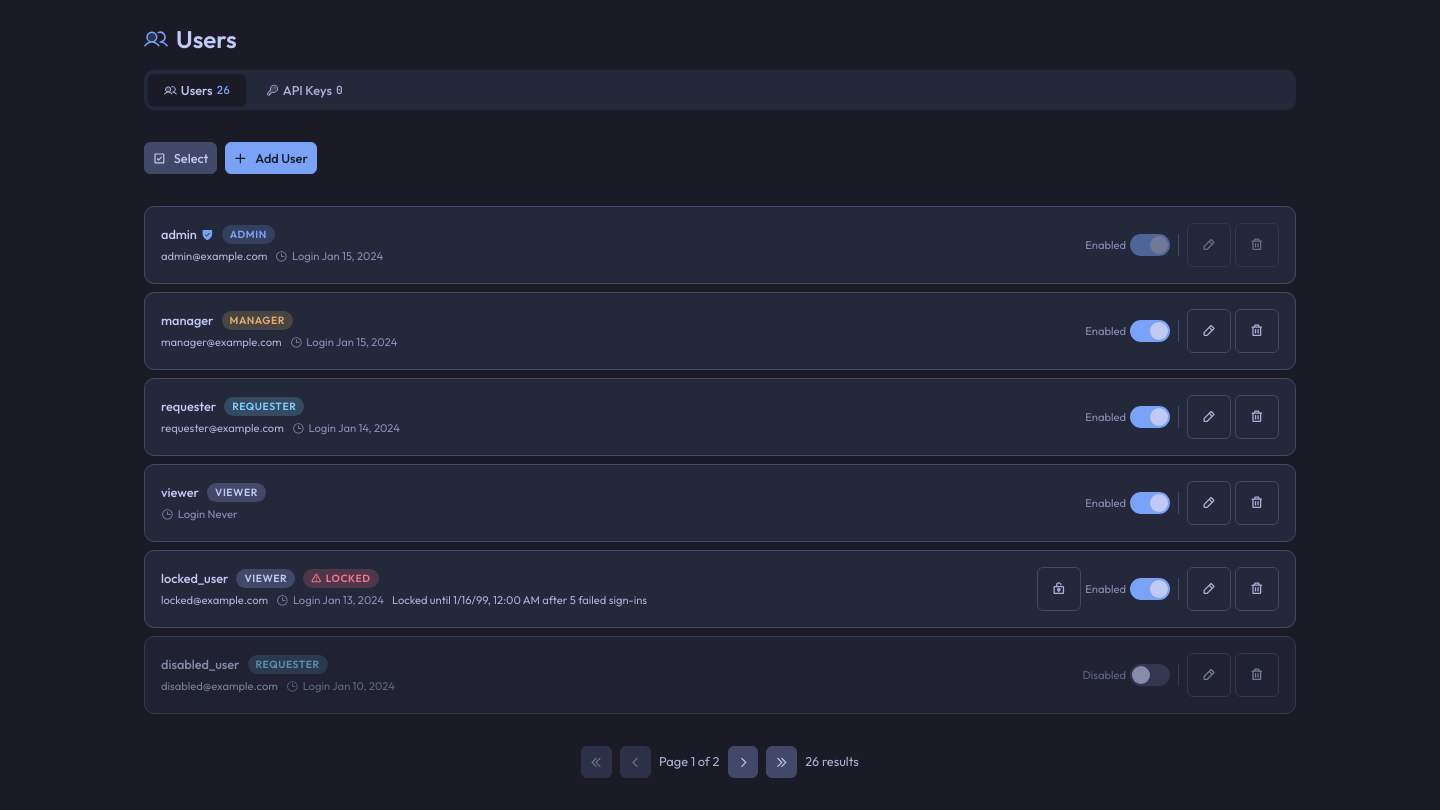
Scenario: UsersPage › uses the total user count and reaches users on later API pages
Check: the text with test id "users-page__tab-count" reads "26", box [216,83,230,97]
Click the button named "Go to next page" at (743, 762), box [728,746,758,778]
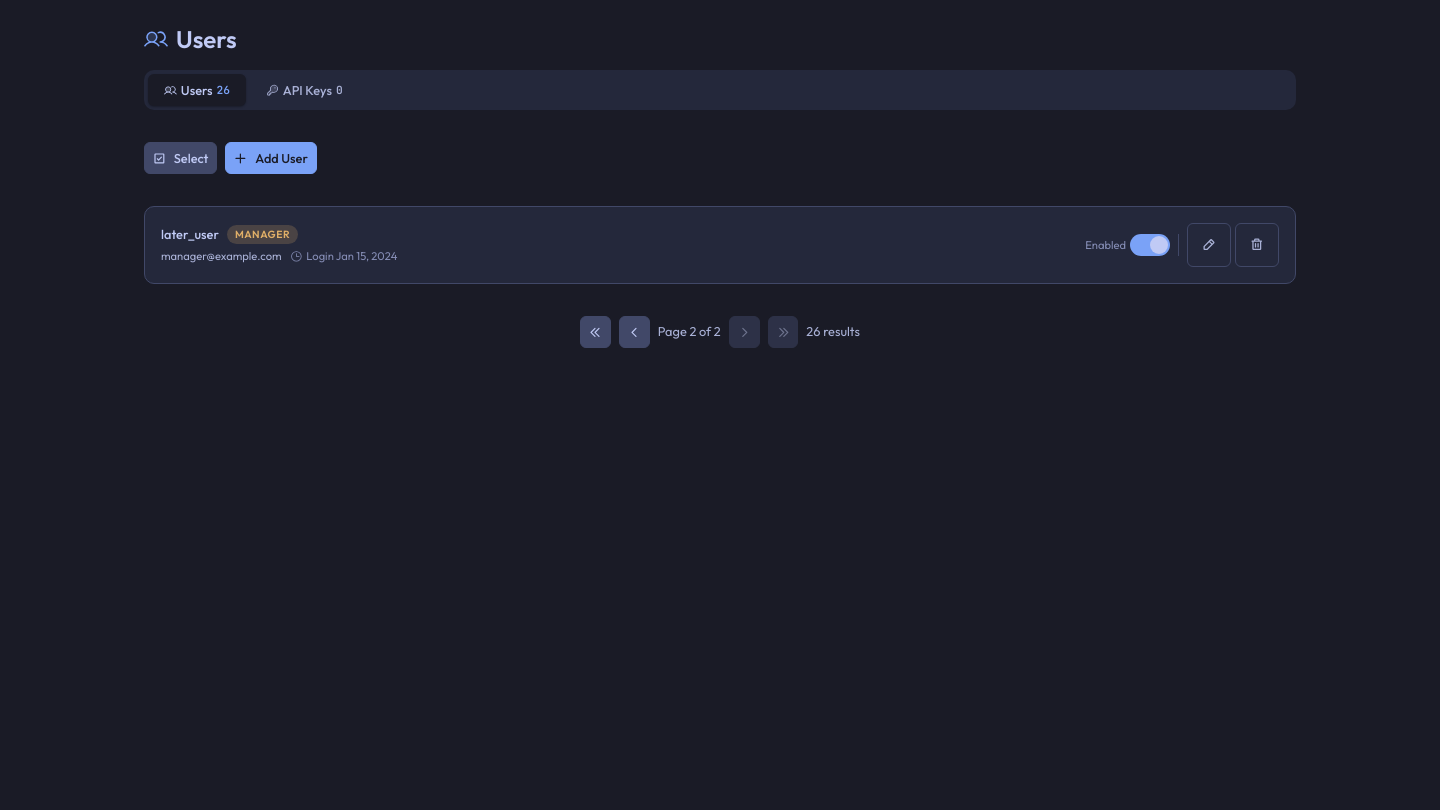
Check: the text "later_user" is shown, box [161,225,219,244]
Check: the text "Page 2 of 2" is shown, box [658,322,721,342]
